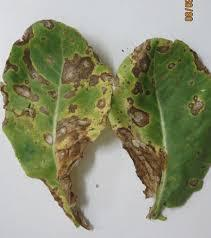Bok-Choy-Diseased: (3, 21, 111, 185), (107, 35, 211, 194)
